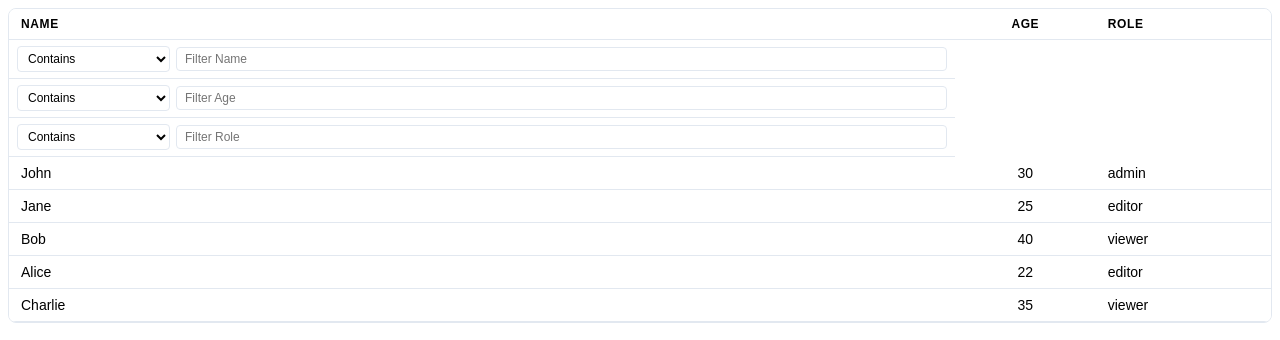
Test: DataGrid › filters by value with default Contains for strings
Type "edit" into the field named "Role value" at (561, 137), box left=176, top=125, right=947, bottom=149
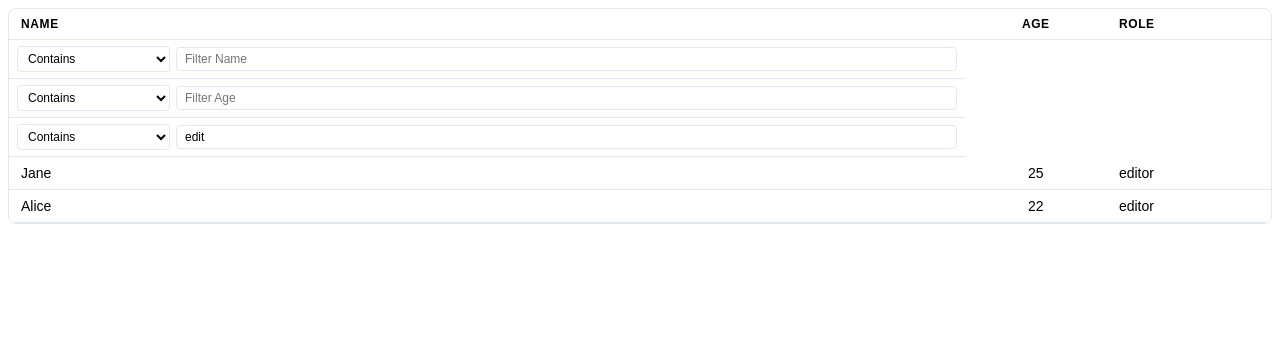
Expected: the row "Jane 25 editor" is shown, left=9, top=157, right=1271, bottom=190
Expected: the number of rows is 4, left=9, top=9, right=1271, bottom=40; left=9, top=40, right=1271, bottom=157; left=9, top=157, right=1271, bottom=190; left=9, top=190, right=1271, bottom=222
